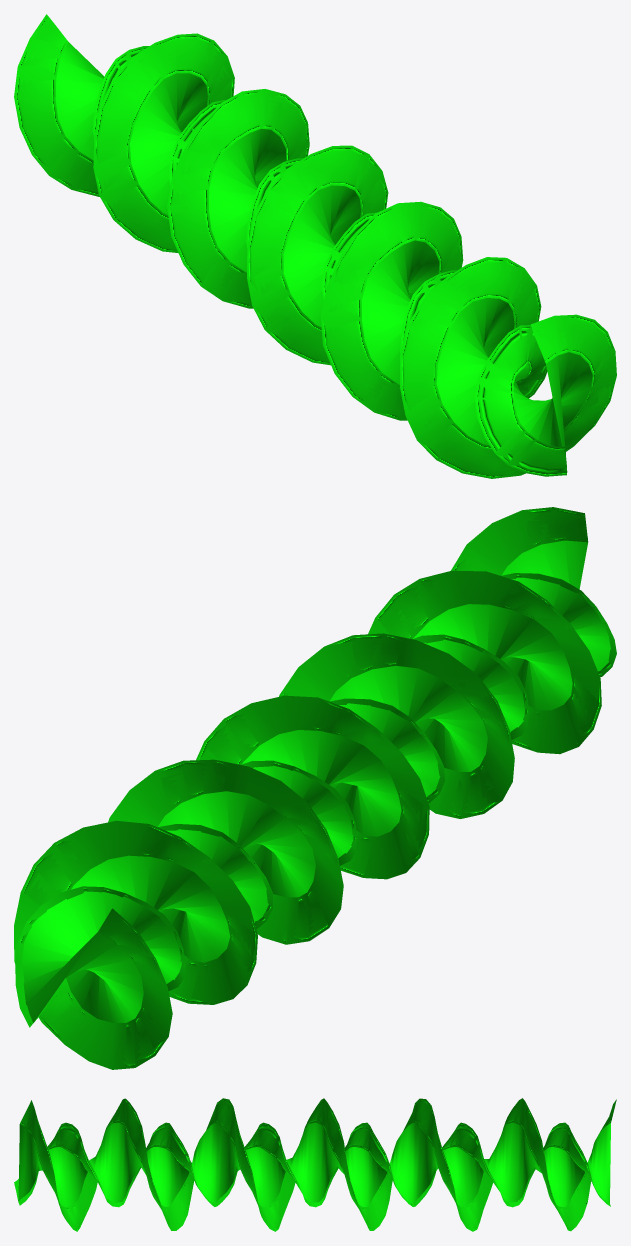
Rendered from a-dna-helix-solid.gltf.
3 renders of one model, top to bottom at view 1: azimuth 30°, elevation 25°; view 2: azimuth 150°, elevation 25°; view 3: azimuth 270°, elevation 25°, orthographic. The views are drawn at different scales.
Visible parts, largest first — view 1: a_dna_helix_solid; view 2: a_dna_helix_solid; view 3: a_dna_helix_solid.
Part boxes in pixels (x1,y1,x2,y2): a_dna_helix_solid: (14,14,616,478); a_dna_helix_solid: (14,507,616,1069); a_dna_helix_solid: (14,1098,616,1231).
Bounding box in the file's own units: 3.78 × 3.79 × 17.05.
